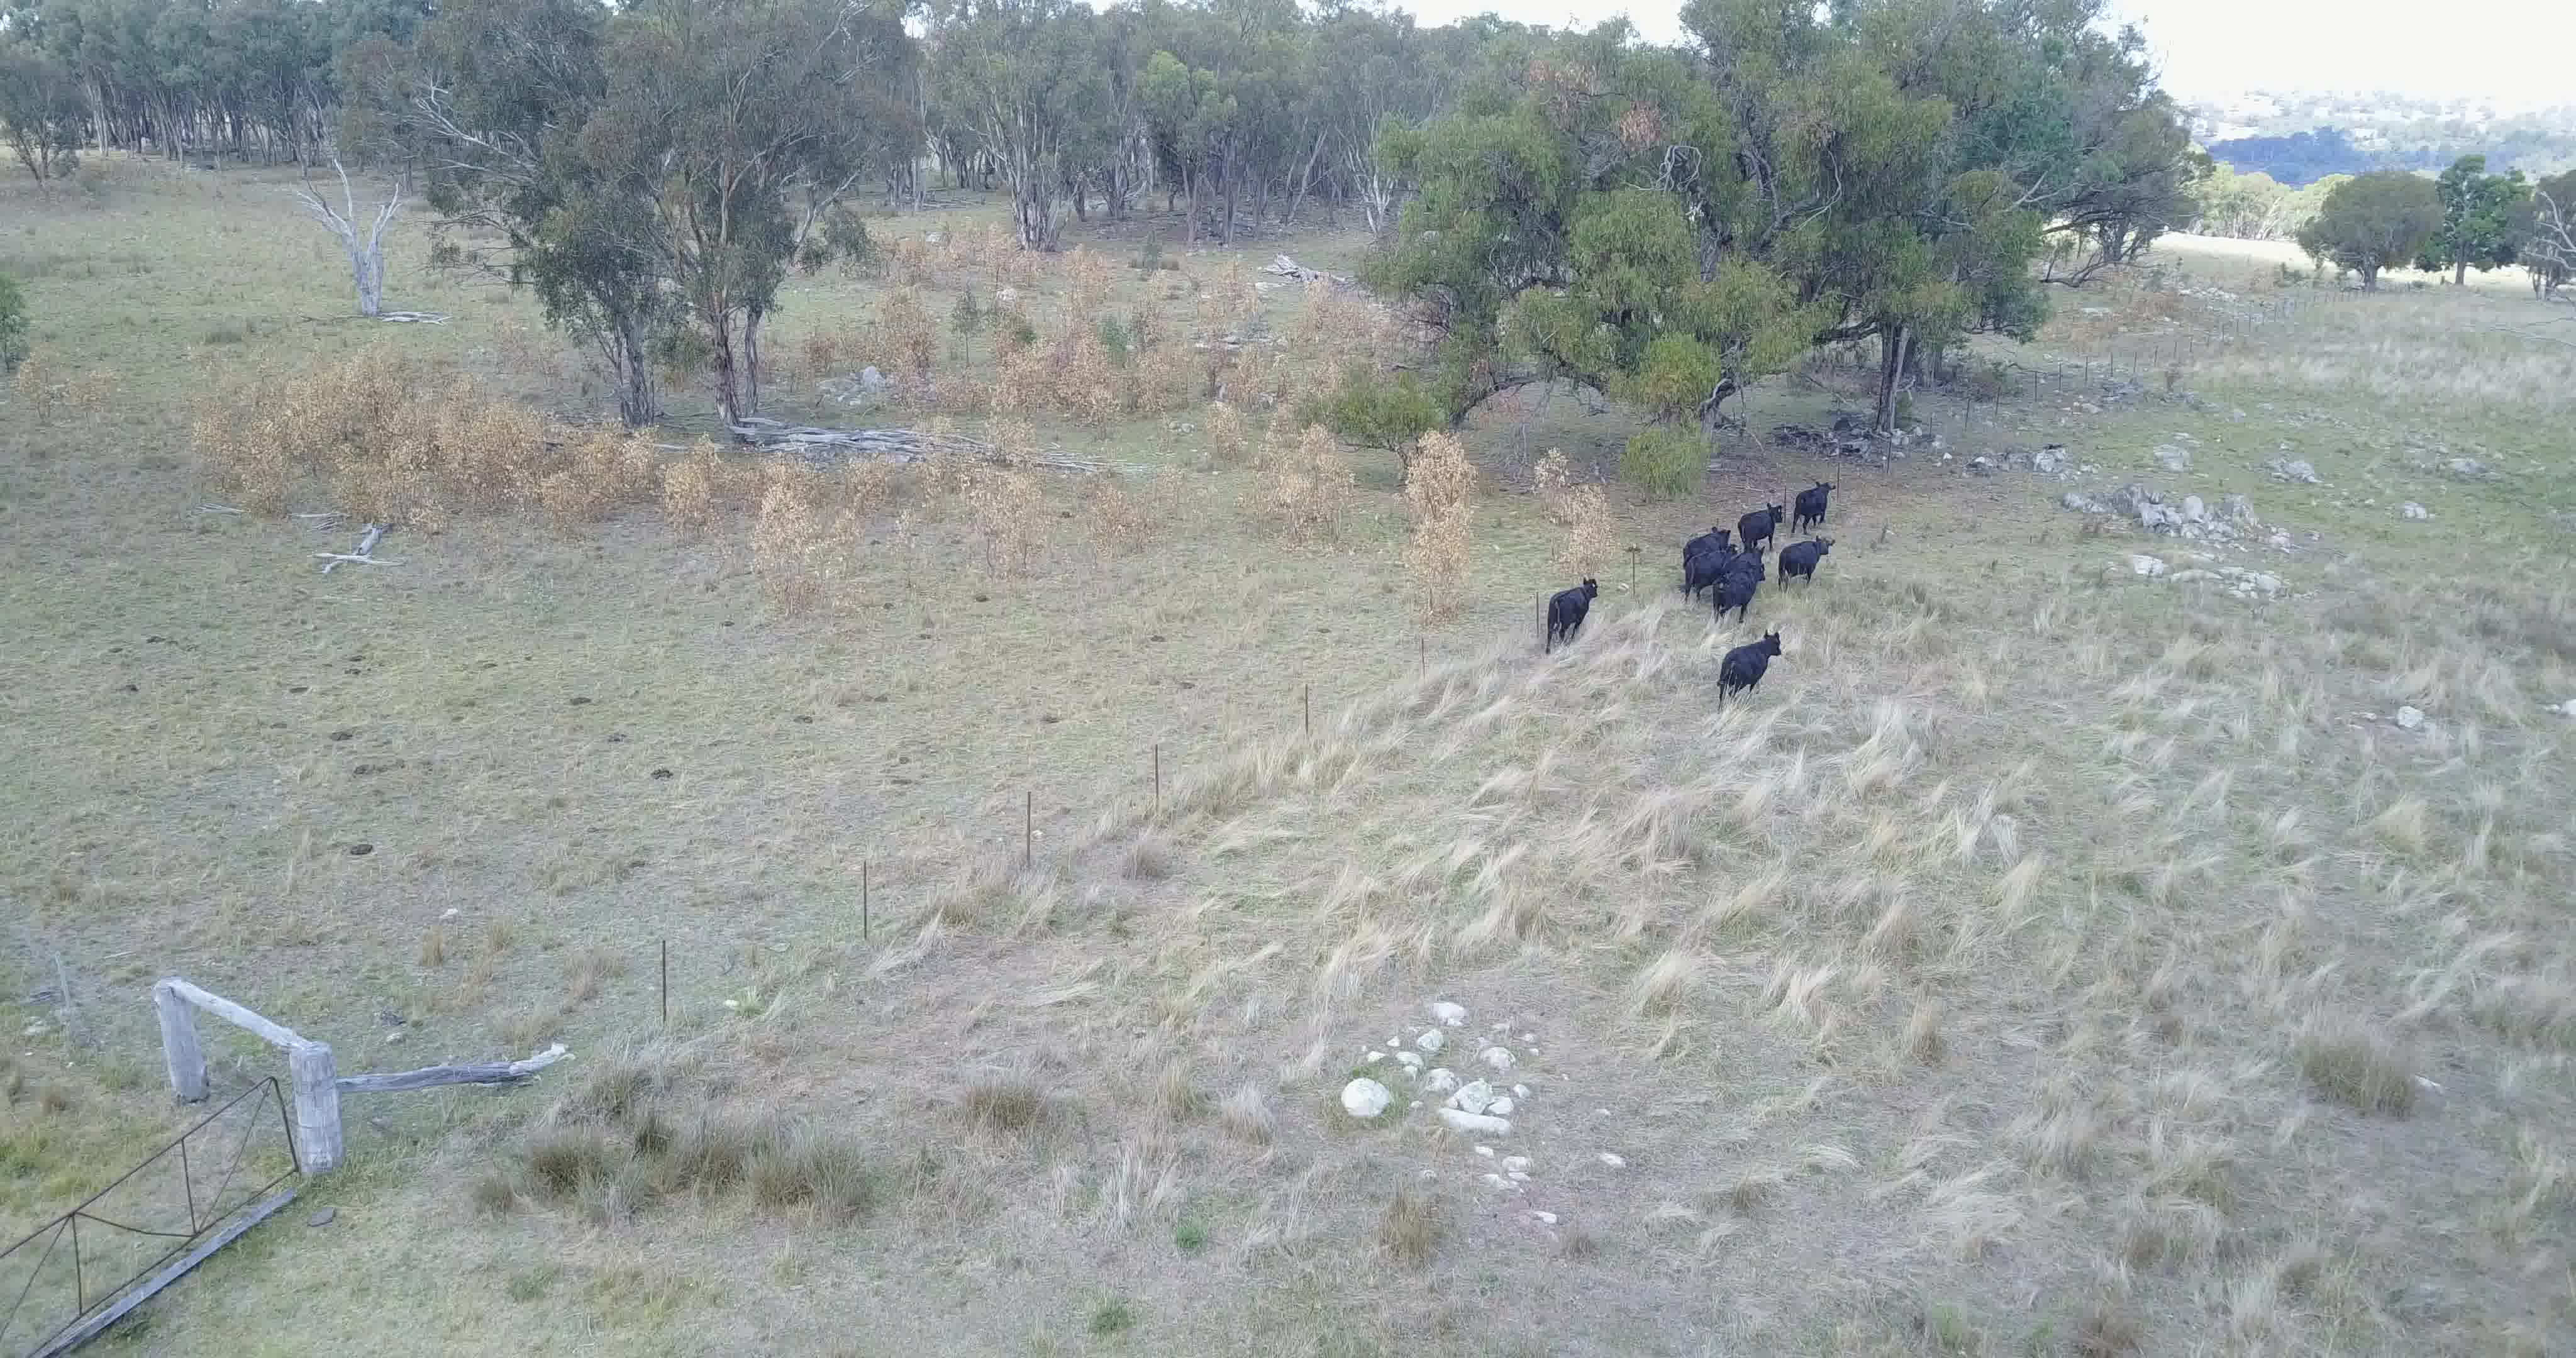cattle: (1716, 627, 1782, 717), (1542, 574, 1598, 659), (1714, 564, 1768, 624), (1779, 533, 1833, 593), (1791, 474, 1835, 535), (1680, 547, 1738, 588), (1734, 501, 1782, 550), (1678, 525, 1731, 555), (1722, 545, 1767, 571)
